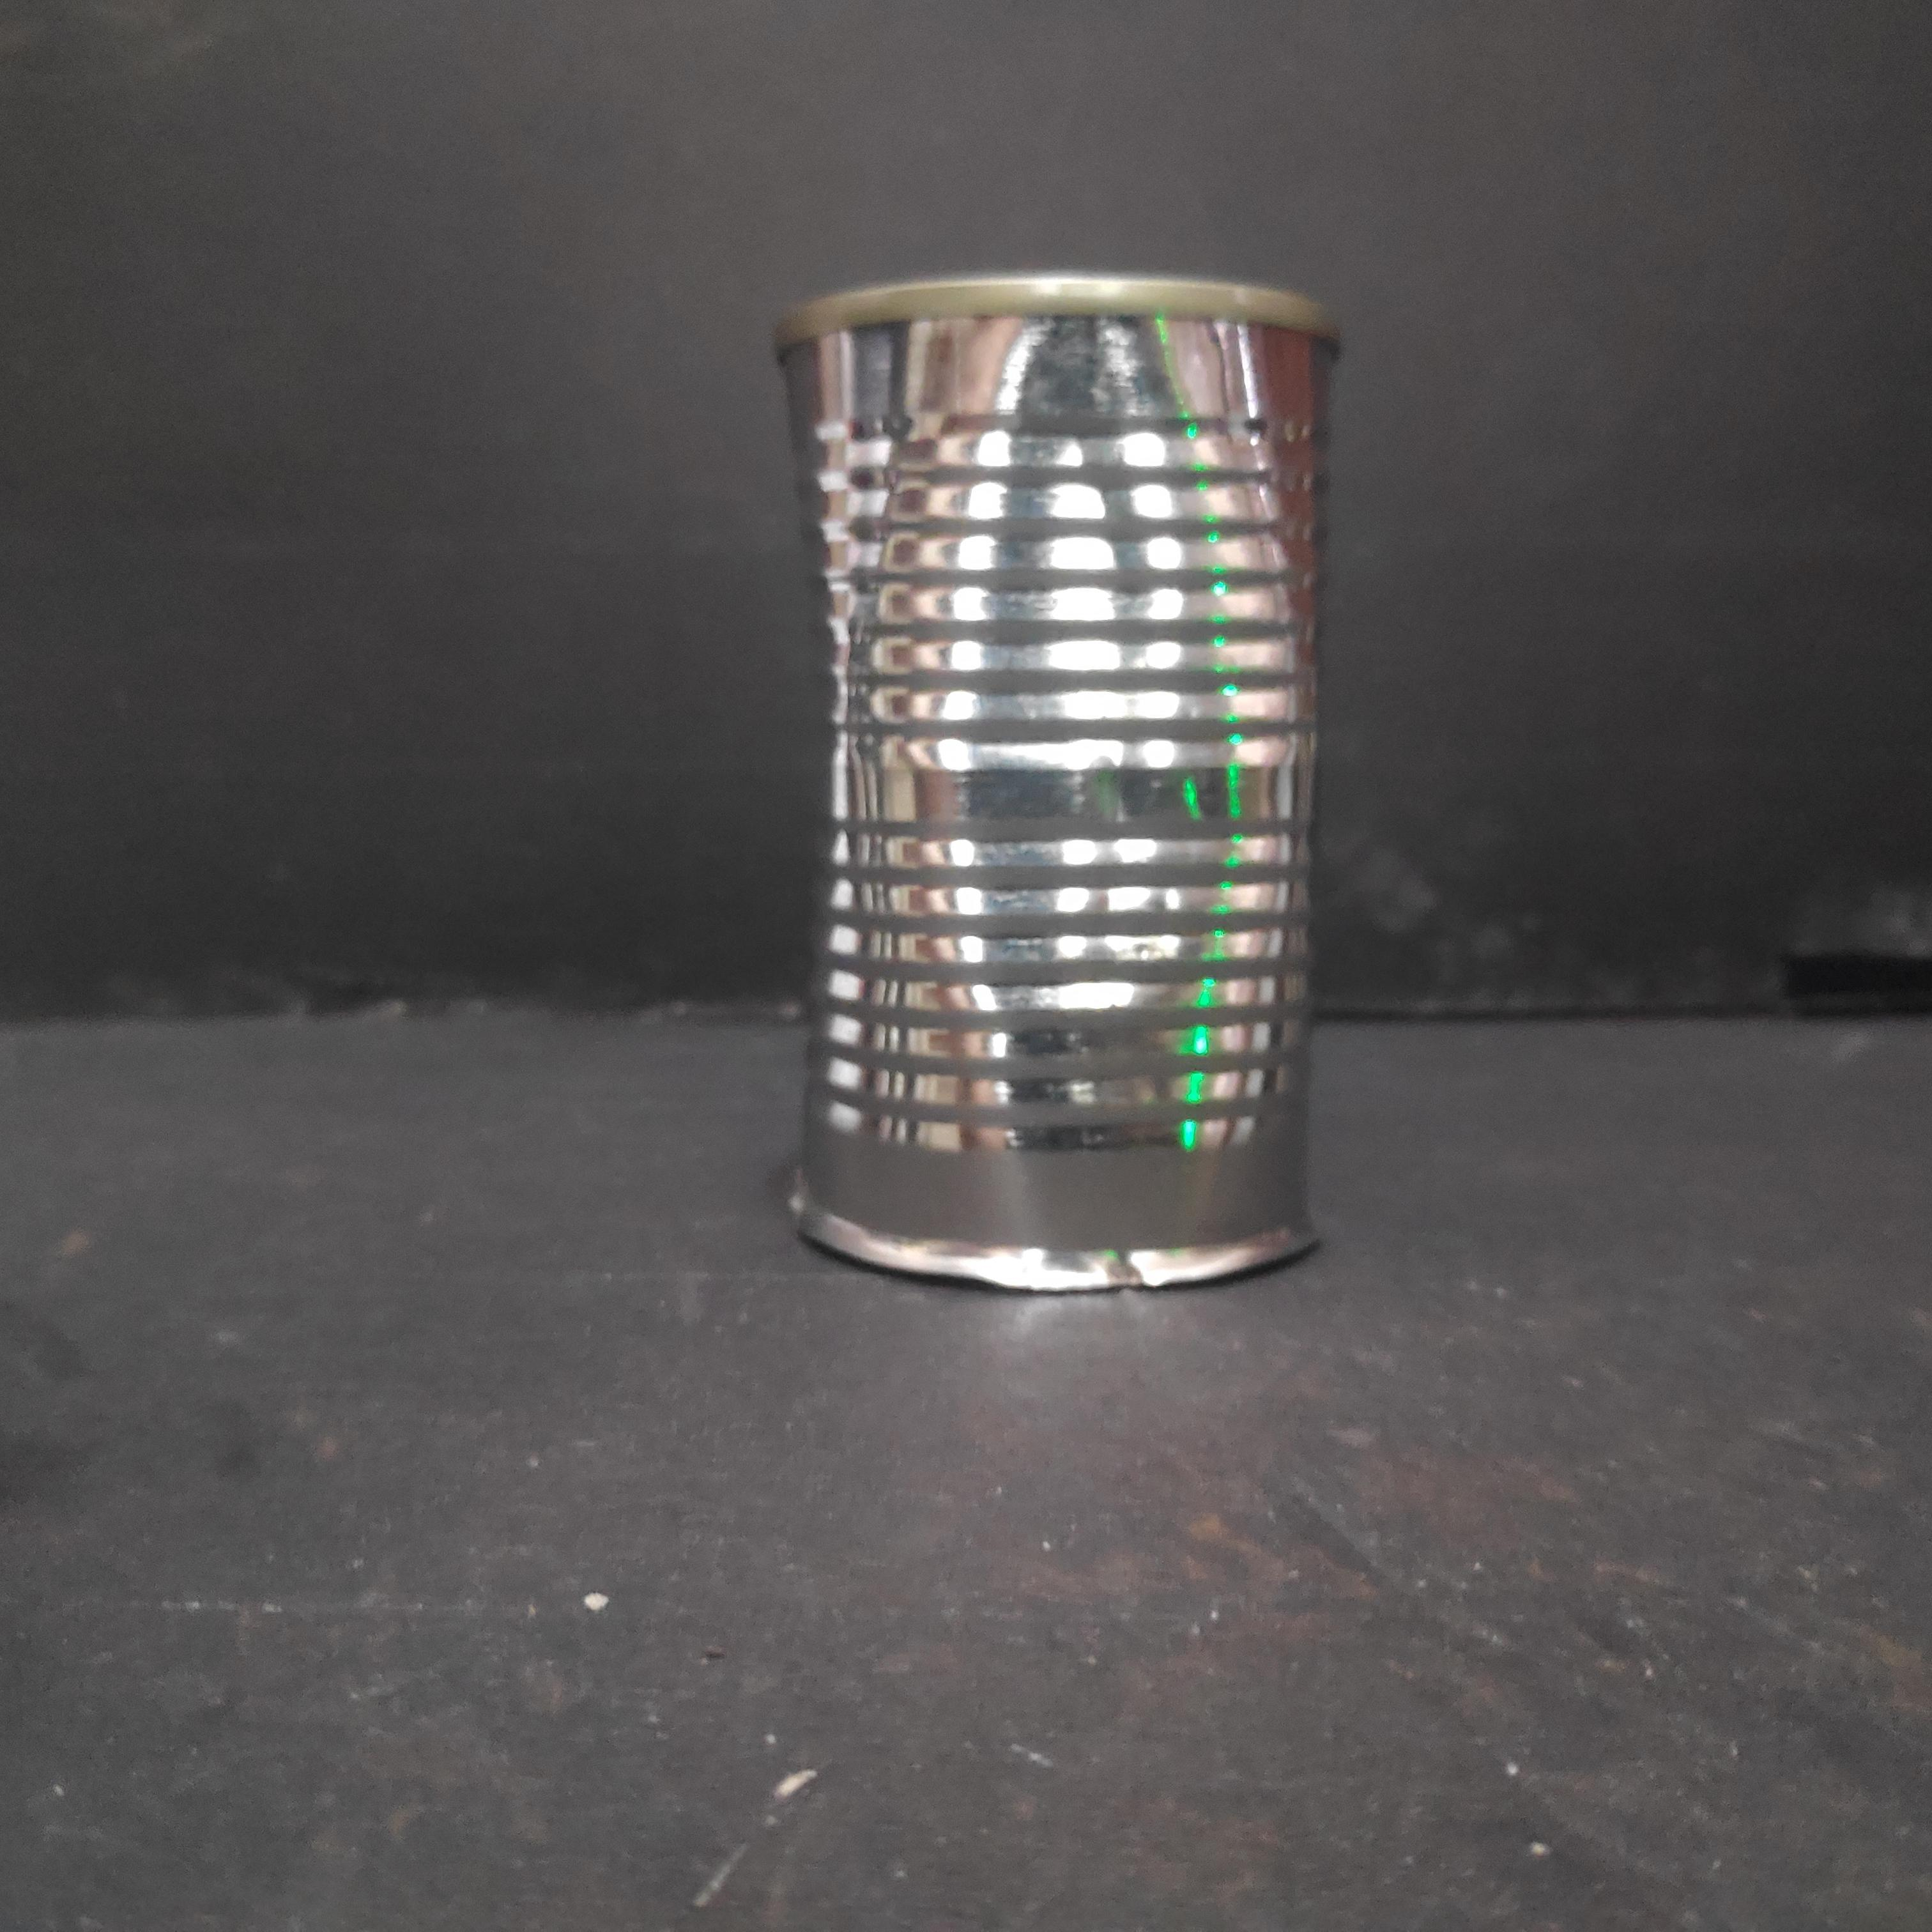Minor Defect: (759, 262, 1352, 1309)
